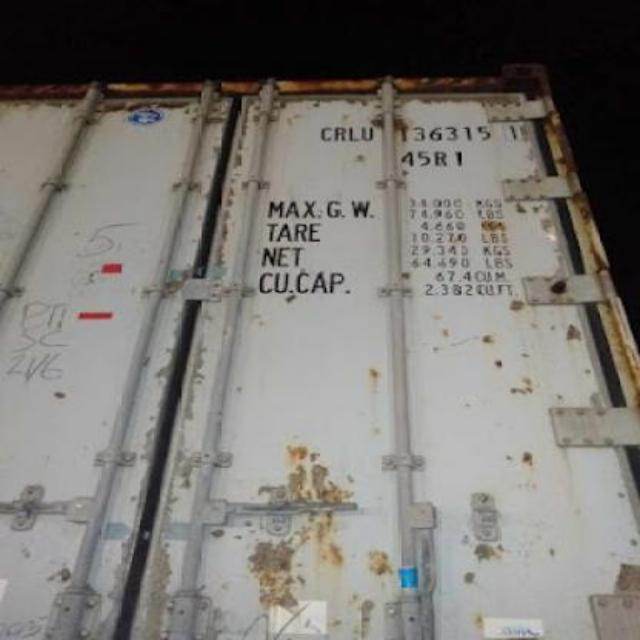1: (504, 124, 520, 140), (462, 124, 476, 142), (398, 124, 410, 144)
3: (446, 122, 462, 144), (414, 122, 426, 144)
5: (476, 122, 492, 144)
6: (431, 124, 444, 140)
C: (318, 126, 334, 144)
L: (350, 124, 360, 142)
R: (332, 124, 348, 144)
U: (358, 124, 374, 144)
